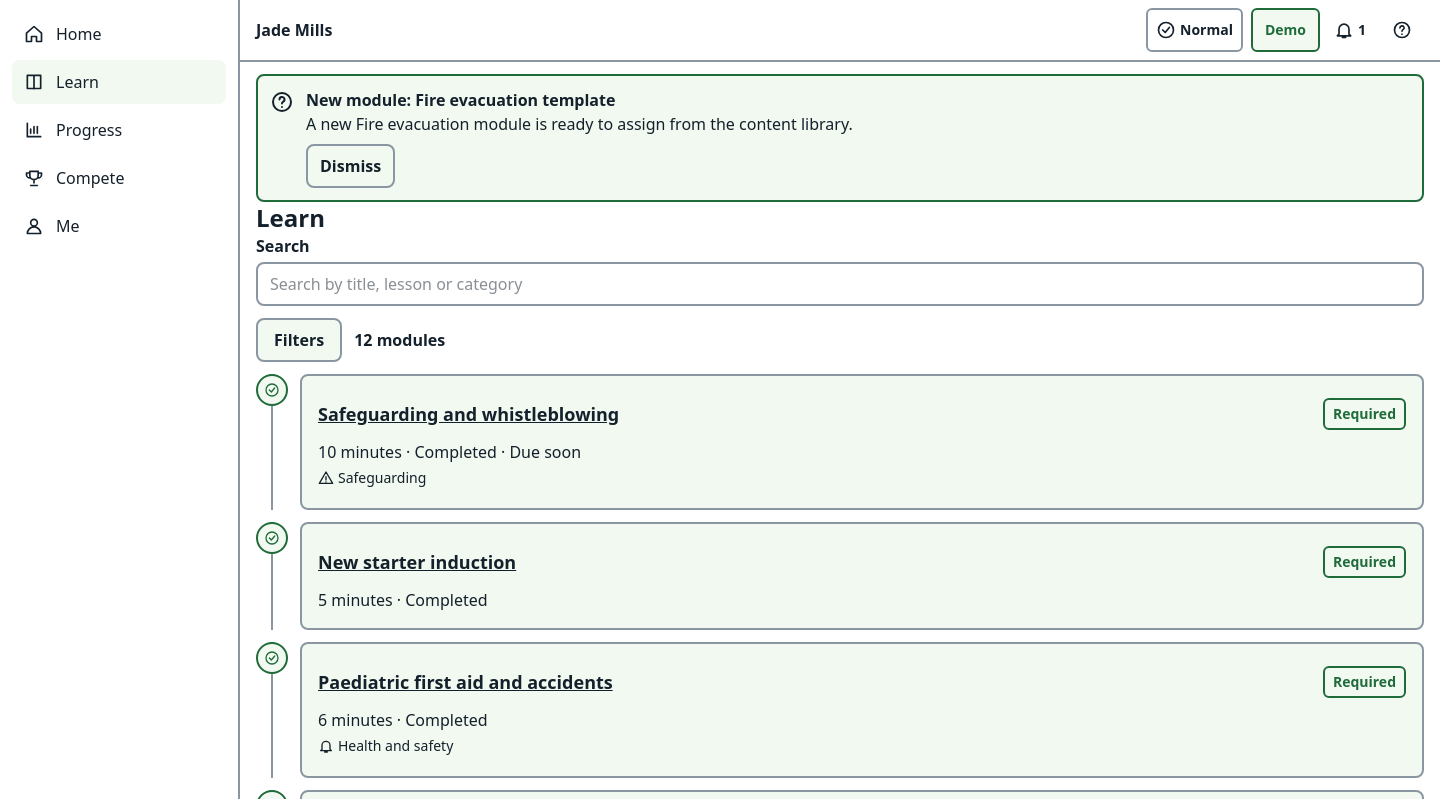
S3 Learn: filters (BP-6) › counts with the search text applied, using the singular for one module
The image size is (1440, 799).
Check: the heading "Learn" is shown, box [256, 202, 325, 234]
Type "sleep" into the search field labelled "Search" at (840, 284), box [256, 262, 1424, 306]
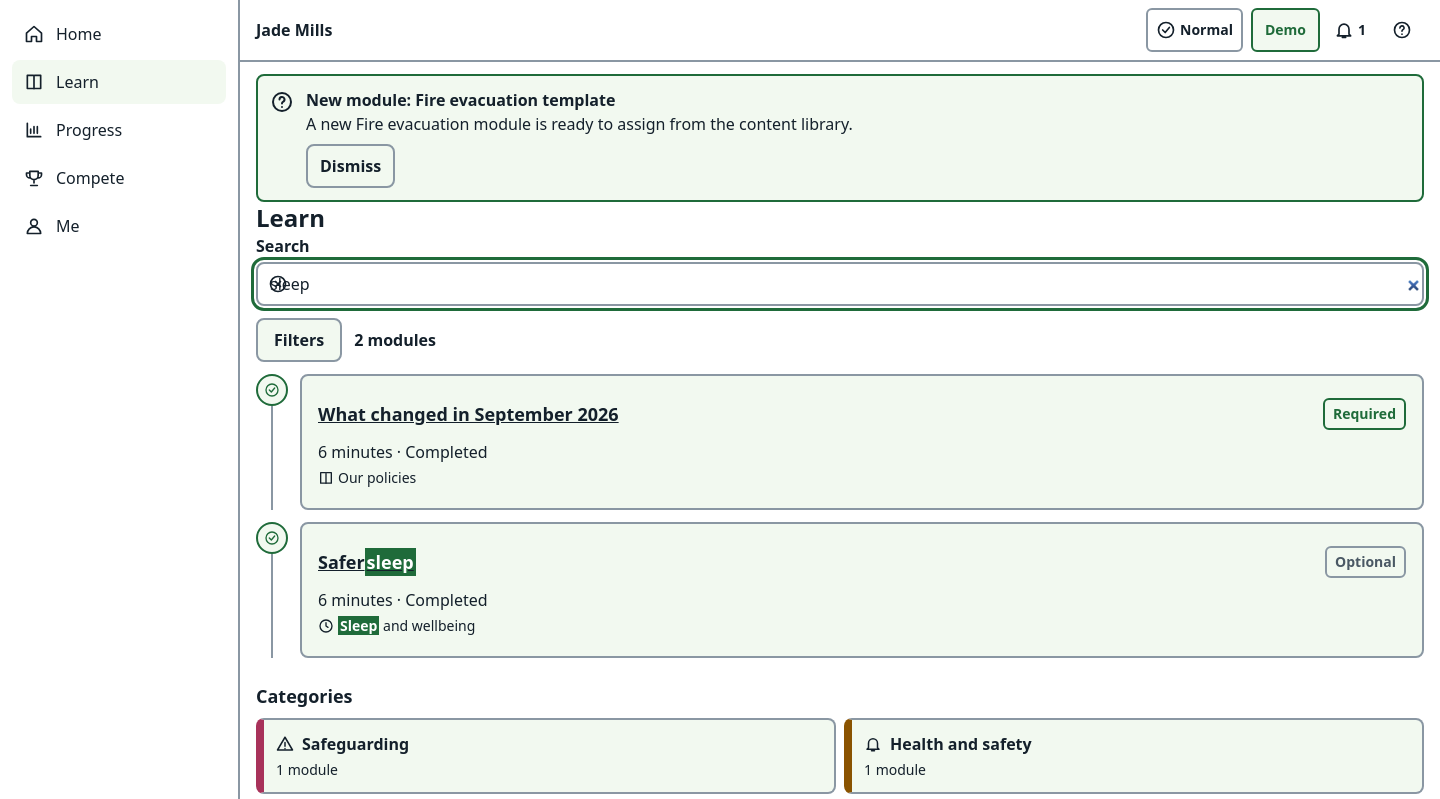
Click the button "Filters" at (299, 340), box [256, 318, 342, 362]
(page scrolled)
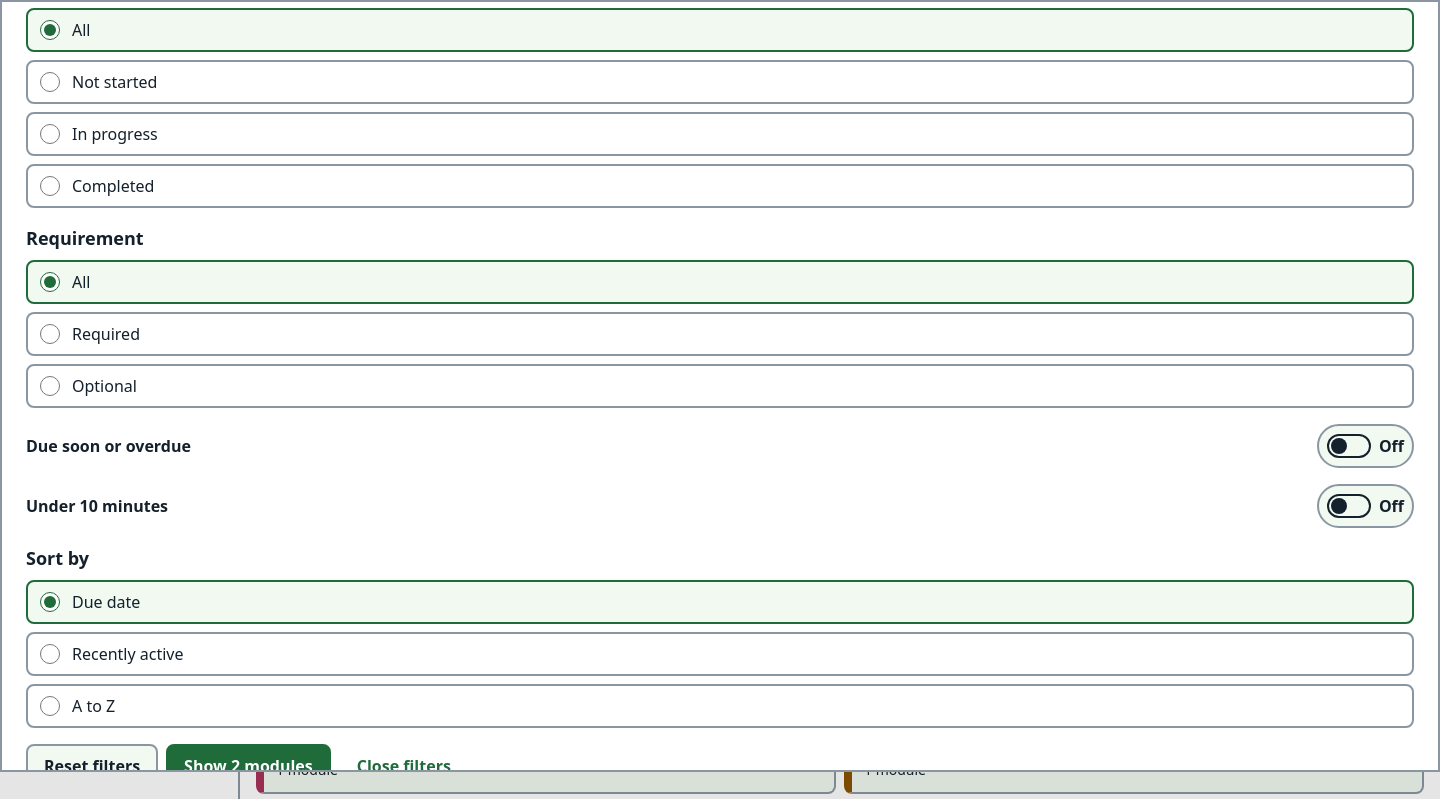
Click the radio button labelled "Optional" at (50, 386), box [40, 376, 60, 396]
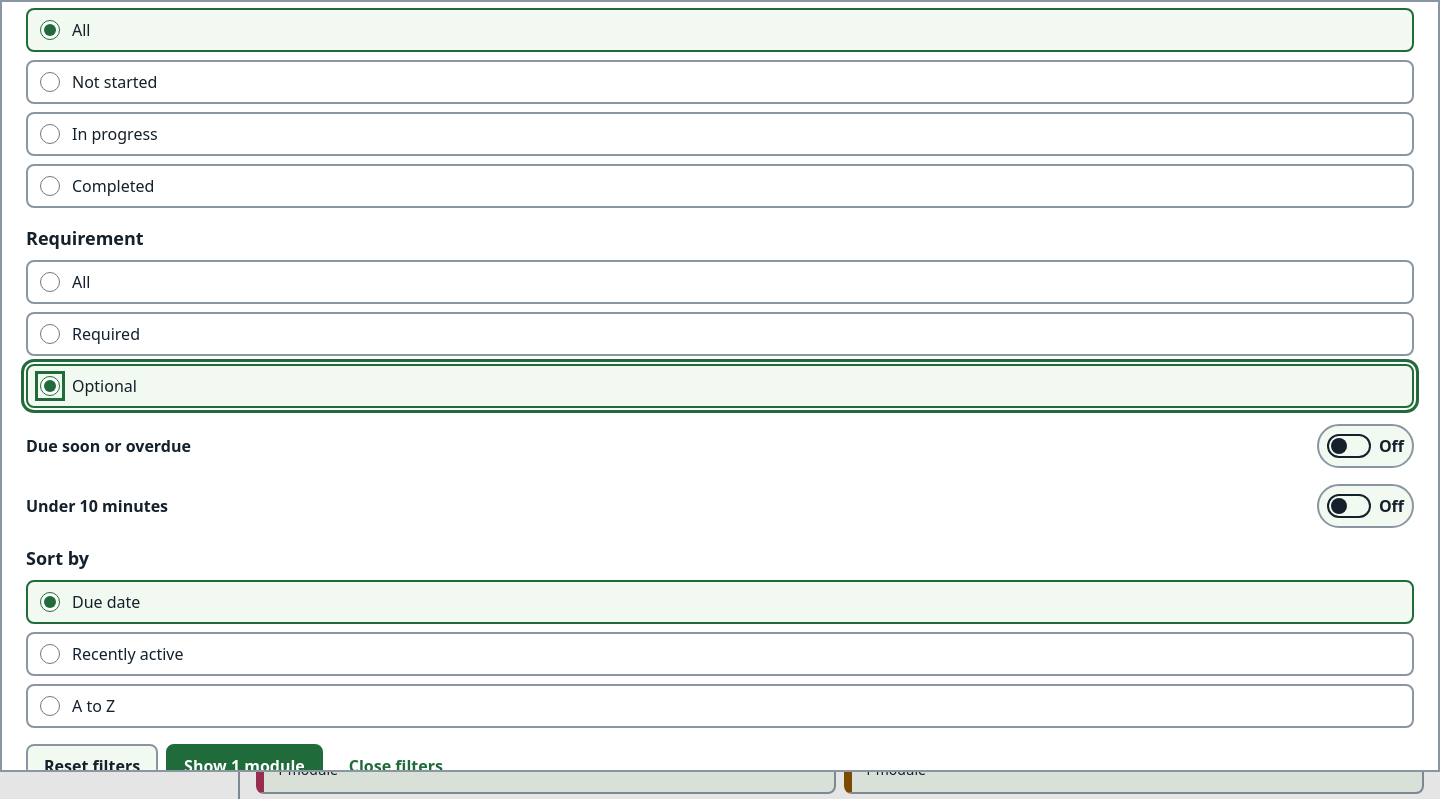
Check: the button "Show 1 module" is shown, box [166, 744, 323, 772]
